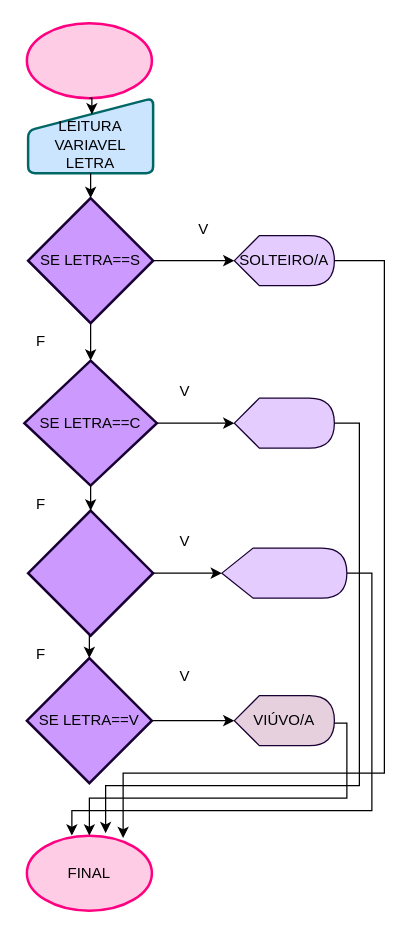
Some shapes in this 416 by 933 pixel diagram are drawn without their labels. The centre of each missing label's shape, as x and y in pixels:
CASADO/A: the point at 283,422
DIVORCIADO/A: the point at 284,572
INÍCIO: the point at 88,60
SE LETRA==D: the point at 90,572
